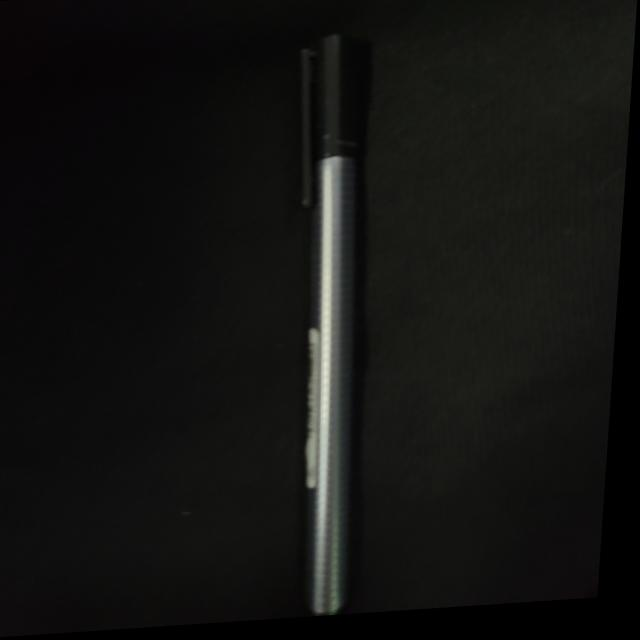caneta: (244, 26, 409, 625)
